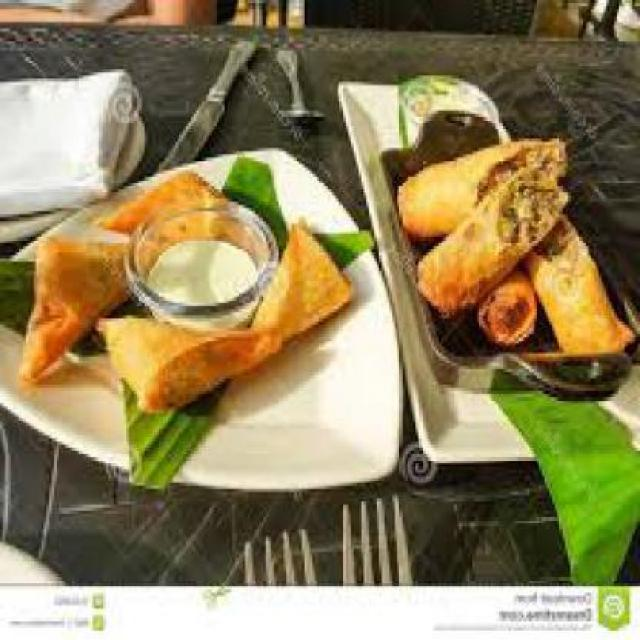samosa: (23, 155, 343, 422)
spring rolls: (406, 123, 612, 360)
